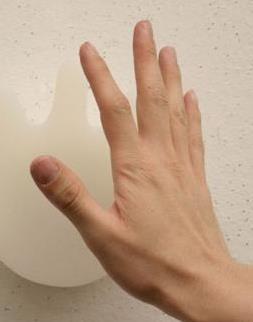down: (31, 18, 214, 310)
